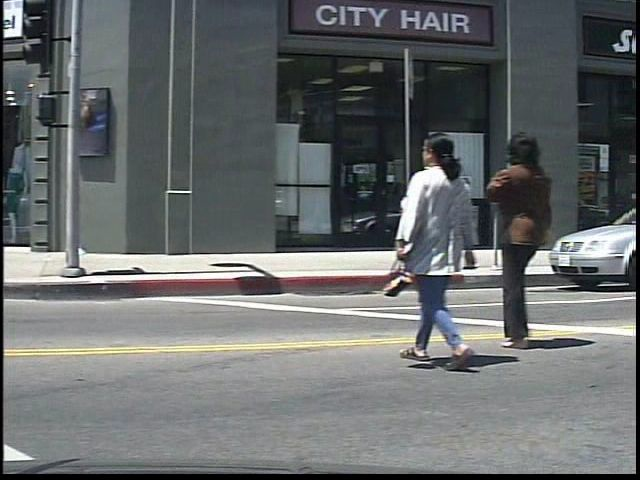person: (494, 125, 589, 354), (406, 122, 490, 371)
